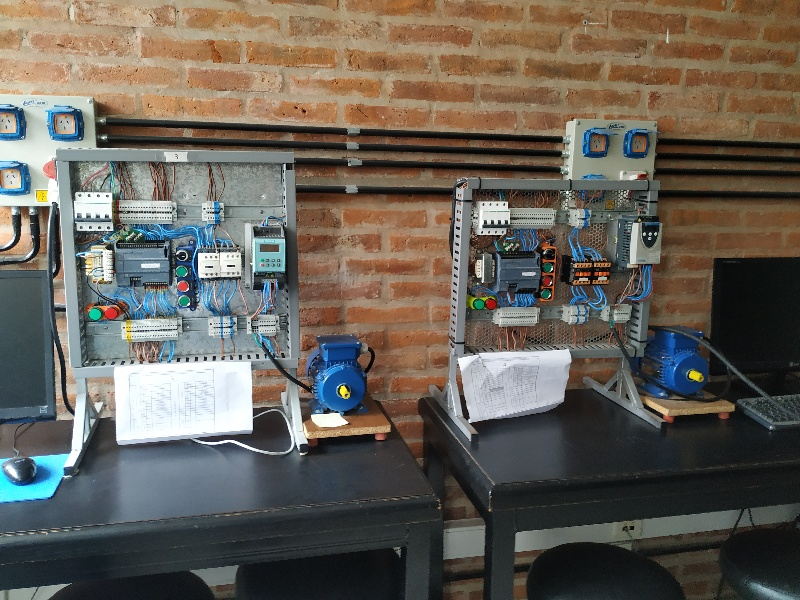Tablero 3: (65, 155, 301, 362)
Tablero 4: (470, 184, 664, 357)
